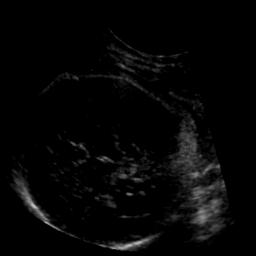abnormal: (0, 43, 207, 256)
